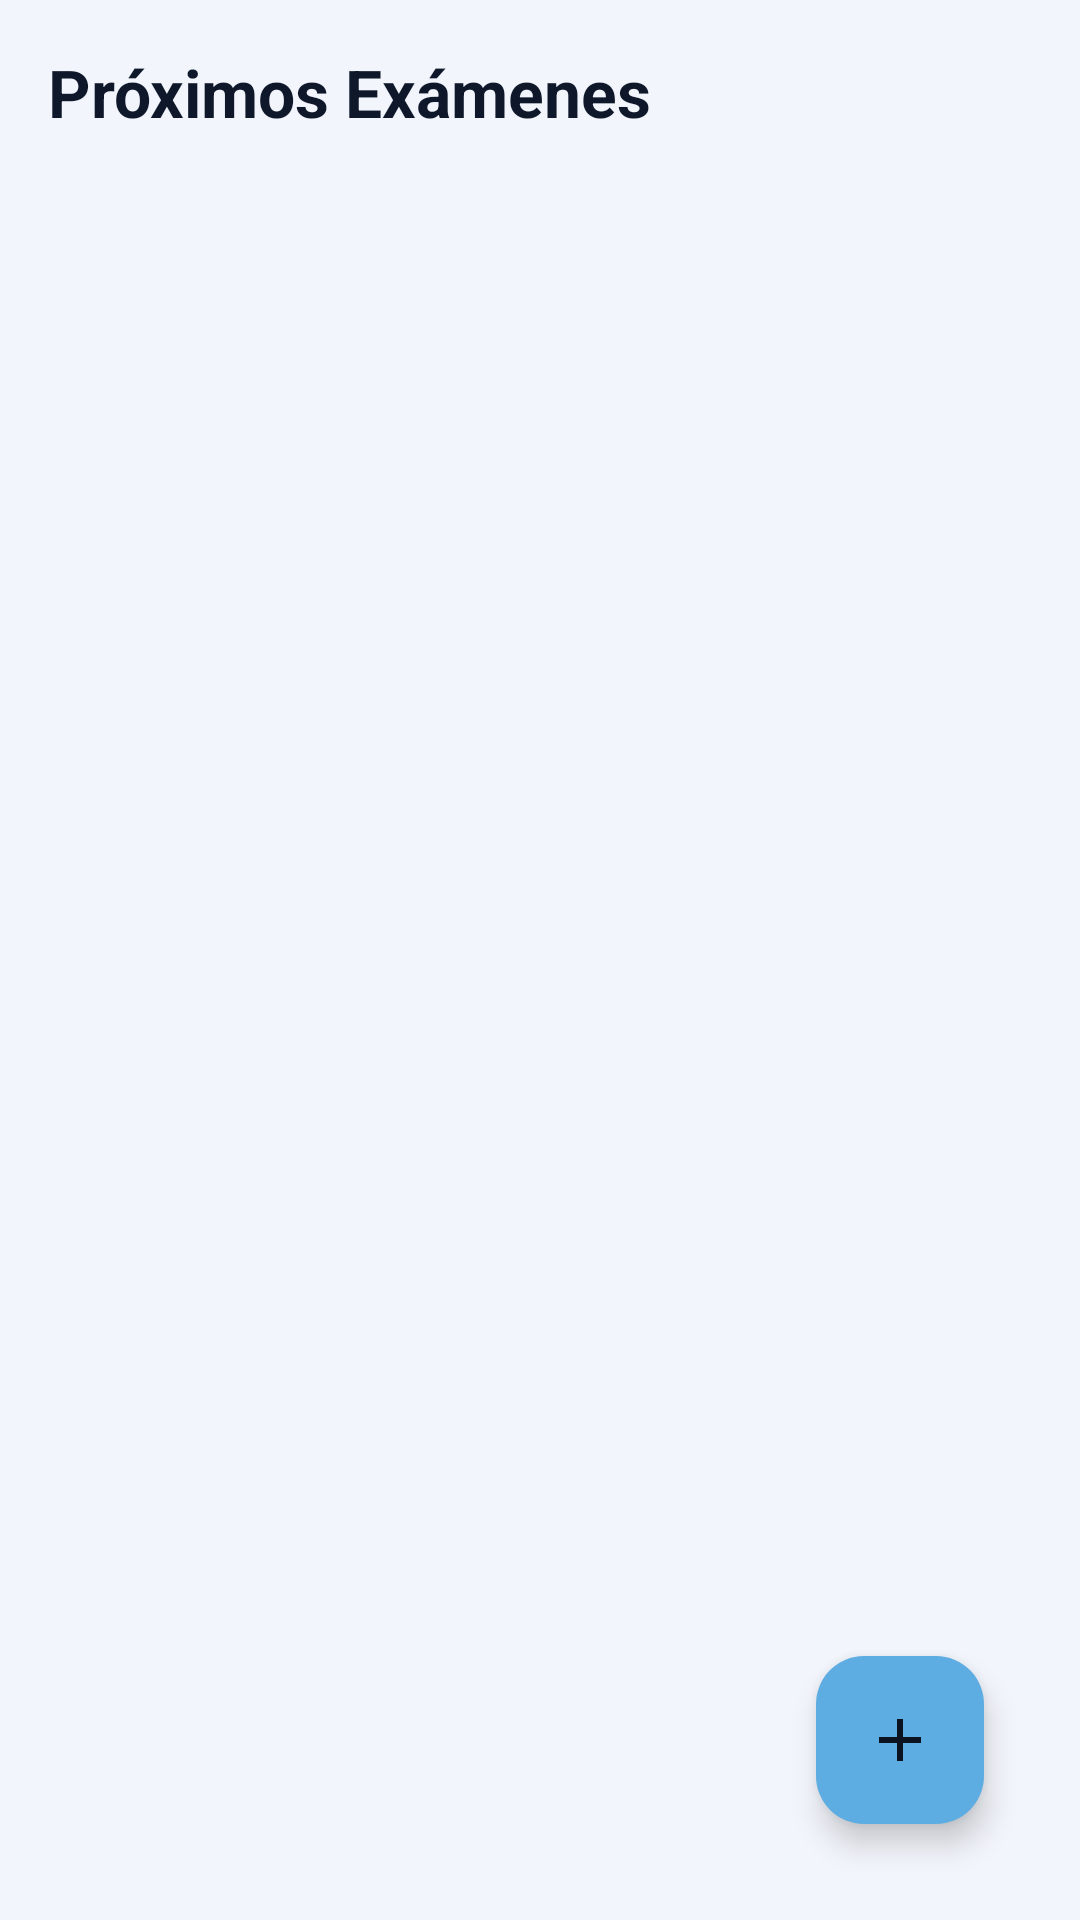

Where icons sit on this 1080*1920 app screen, as rect(x1, y1, x2, y2):
Agregar examen: rect(816, 1656, 984, 1824)
